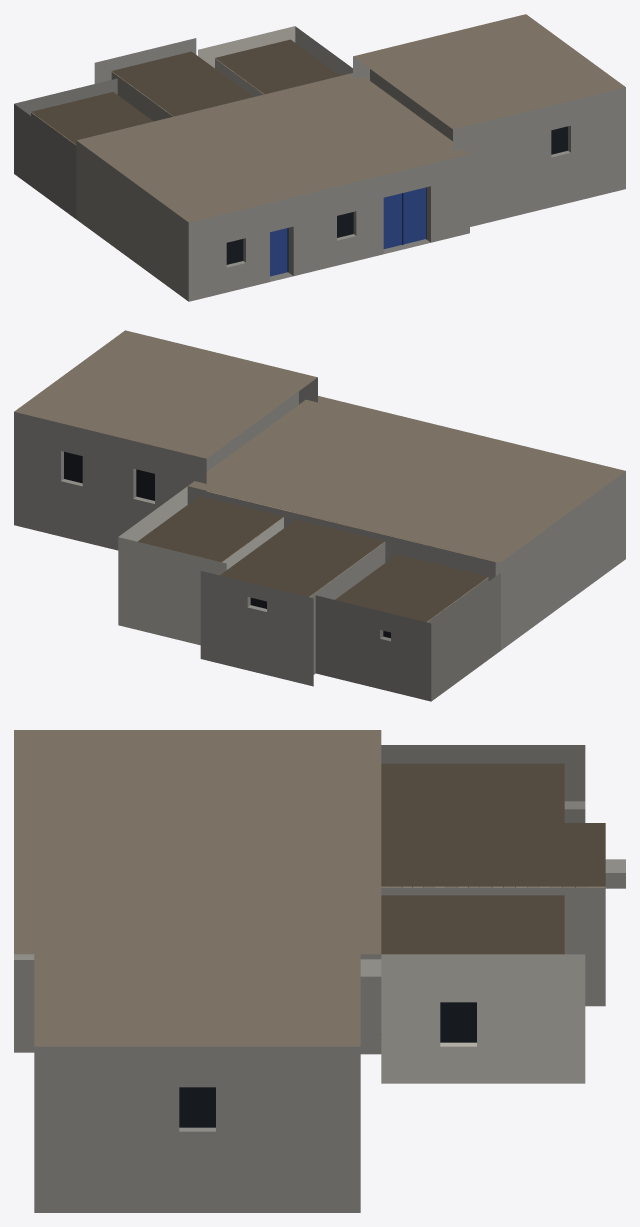
Rendered from gardist_innen.glb.
3 views of the same model, one above another, from view 1: azimuth 30°, elevation 25°; view 2: azimuth 150°, elevation 25°; view 3: azimuth 270°, elevation 25° (orthographic). The views are drawn at different scales.
Visible parts, largest first — view 1: Decke_Werk, Raum_Werk, Raum_Uebung, Decke_Uebung, Raum_Zelle, Decke_Lager, Decke_Hauptmann, Decke_Zelle, Raum_Hauptmann, Raum_Lager, Bedienung_Karren_Hoftor, Holztuer; view 2: Decke_Werk, Decke_Uebung, Raum_Uebung, Raum_Zelle, Raum_Werk, Raum_Lager, Raum_Hauptmann, Decke_Lager, Decke_Zelle, Decke_Hauptmann; view 3: Decke_Werk, Raum_Uebung, Decke_Uebung, Raum_Hauptmann, Decke_Lager, Decke_Hauptmann, Decke_Zelle, Raum_Lager, Raum_Zelle, Raum_Werk.
Boxes of the visible parts, x1,y1,x2,y2 form: Decke_Werk: (77,73,469,222); Raum_Werk: (76,140,469,301); Raum_Uebung: (353,56,625,226); Decke_Uebung: (353,14,625,129); Raum_Zelle: (14,78,117,218); Decke_Lager: (112,51,253,116); Decke_Hauptmann: (215,39,339,94); Decke_Zelle: (31,92,153,144); Raum_Hauptmann: (198,26,352,96); Raum_Lager: (94,38,196,121); Bedienung_Karren_Hoftor: (383,187,426,248); Holztuer: (270,228,288,276); Decke_Werk: (188,396,625,562); Decke_Uebung: (14,330,317,458); Raum_Uebung: (14,377,317,550); Raum_Zelle: (315,573,500,701); Raum_Werk: (206,471,625,650); Raum_Lager: (200,542,385,686); Raum_Hauptmann: (118,486,283,645); Decke_Lager: (220,519,384,597); Decke_Zelle: (335,554,488,622); Decke_Hauptmann: (137,496,283,562); Decke_Werk: (14,730,381,954); Raum_Uebung: (34,1046,360,1212); Decke_Uebung: (34,908,360,1046); Raum_Hauptmann: (380,954,585,1083); Decke_Lager: (381,823,605,887); Decke_Hauptmann: (381,895,564,954); Decke_Zelle: (381,763,564,822); Raum_Lager: (381,859,625,1006); Raum_Zelle: (381,745,585,822); Raum_Werk: (14,954,381,1054).
Size of the model in its own units: 20.5 by 4.52 by 15.
